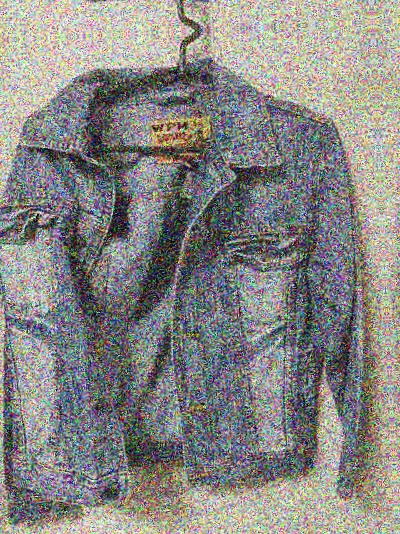Blazer: (0, 47, 391, 534), (380, 27, 400, 516), (0, 0, 365, 16)
